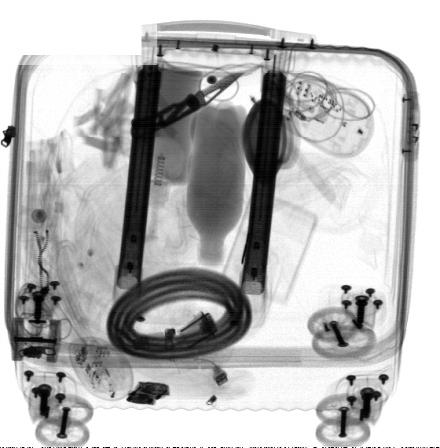Knife: (131, 73, 245, 140)
